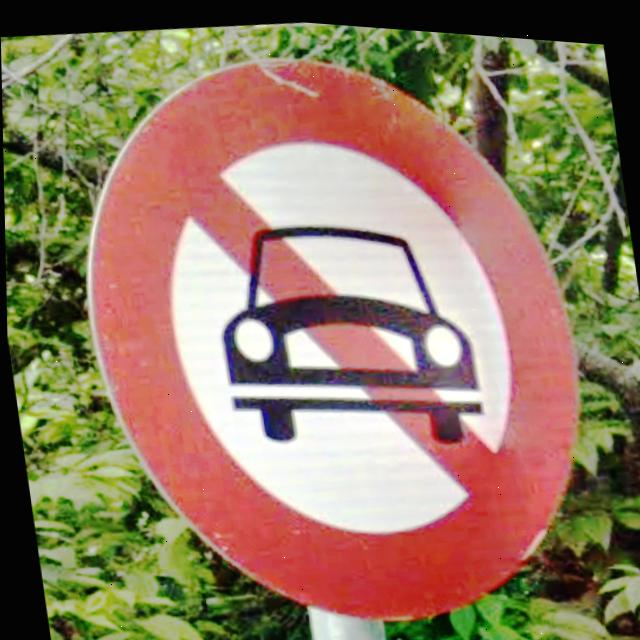nocar: (85, 55, 579, 619)
